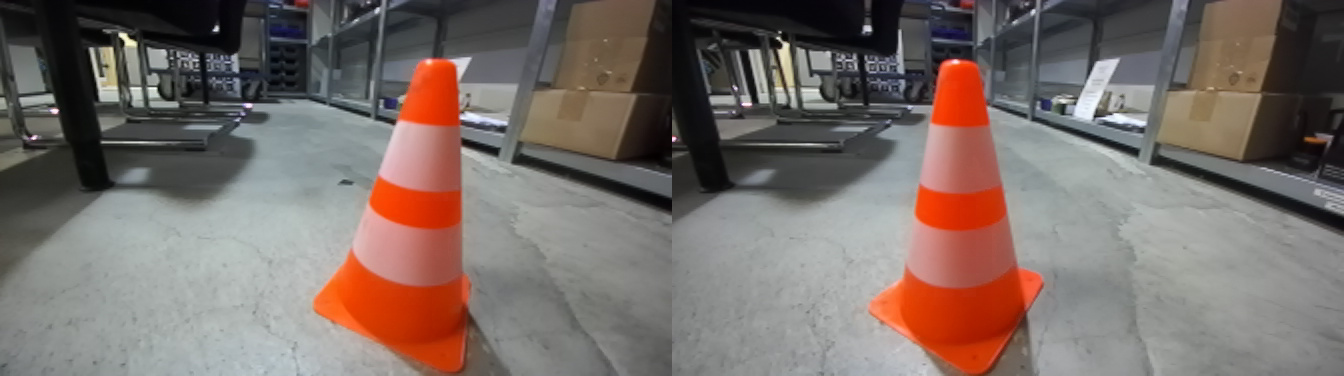cone: (872, 64, 1051, 376), (316, 63, 481, 376)
